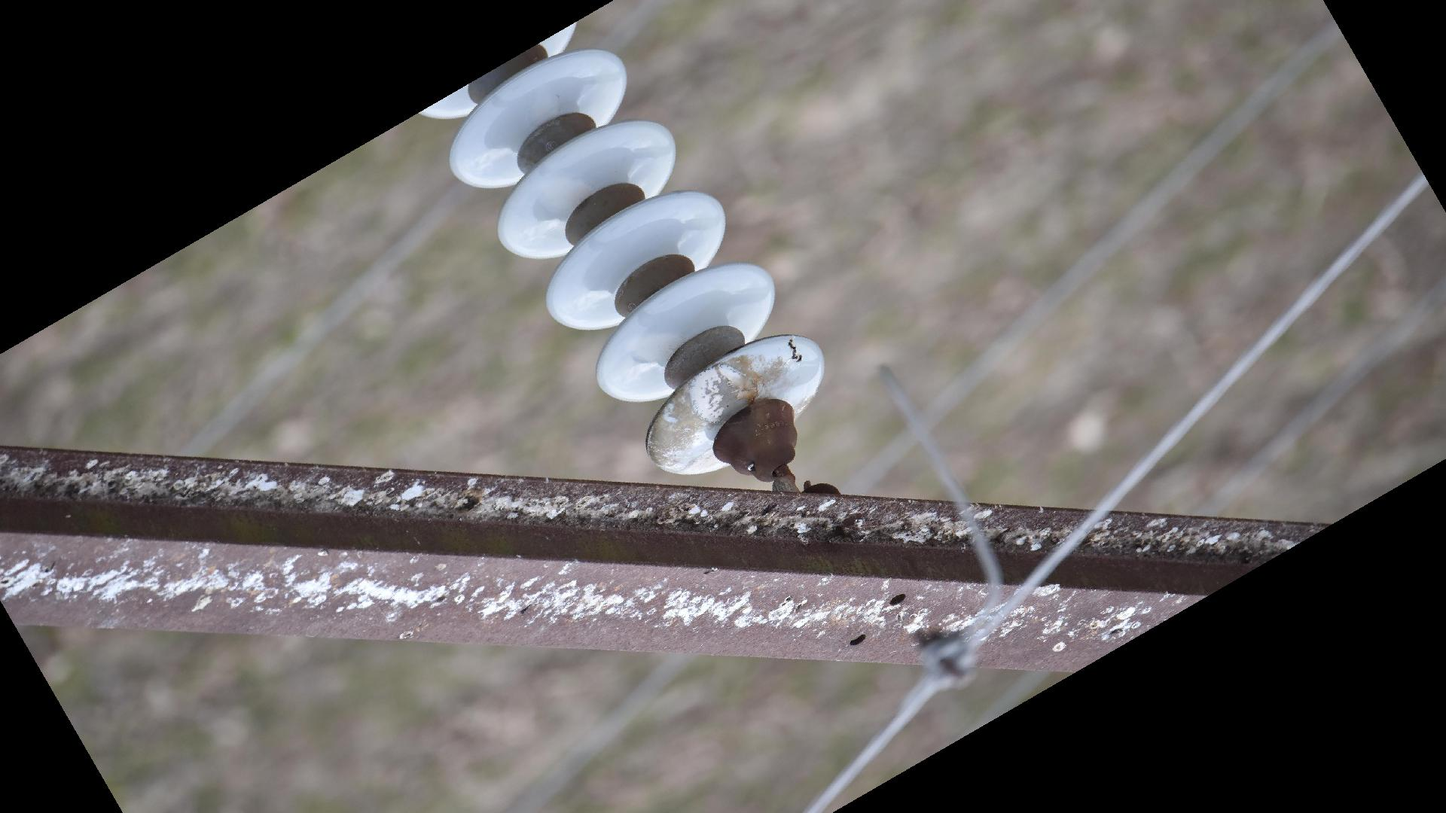insulator: (409, 19, 831, 483)
insulator_flashover: (686, 361, 761, 426)
